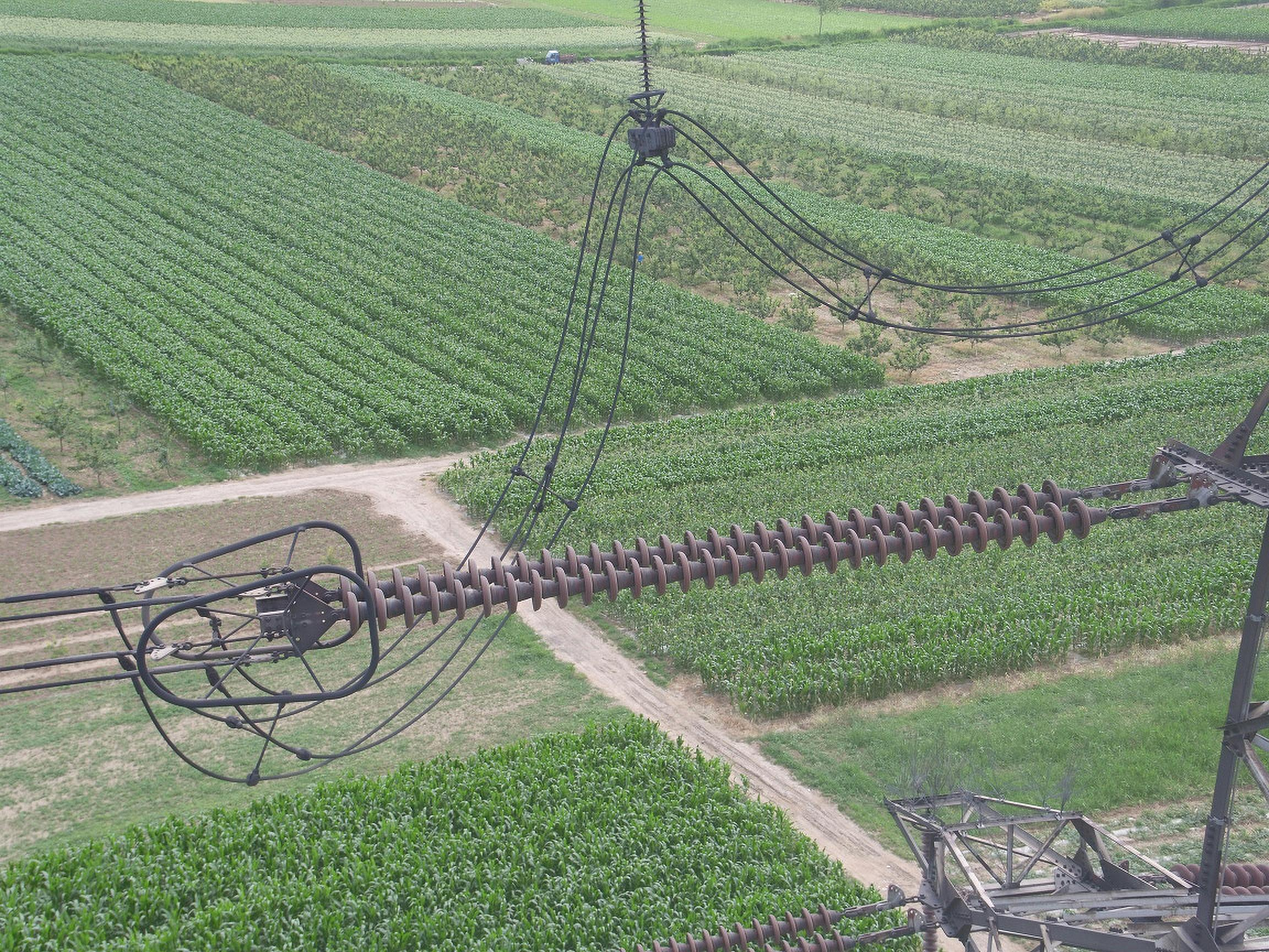insulator: (330, 475, 1098, 639), (628, 896, 852, 952), (1162, 851, 1269, 904), (632, 1, 660, 97)
